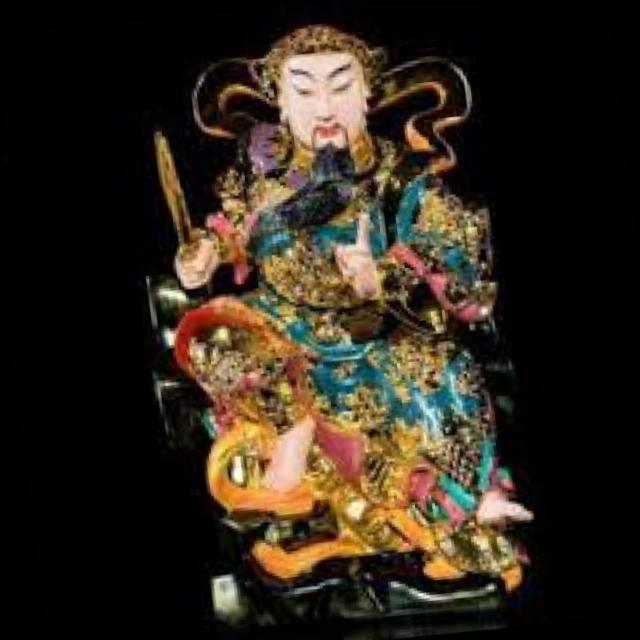Xuan wu: (135, 5, 538, 559)
